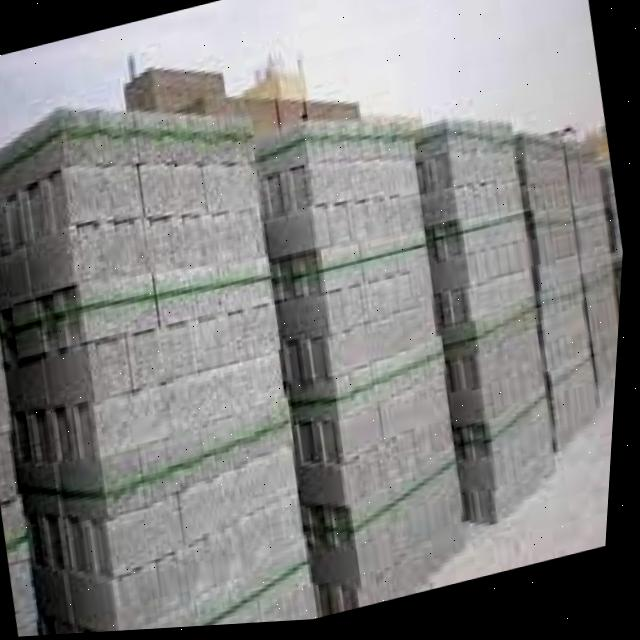bricks: (0, 109, 545, 637)
